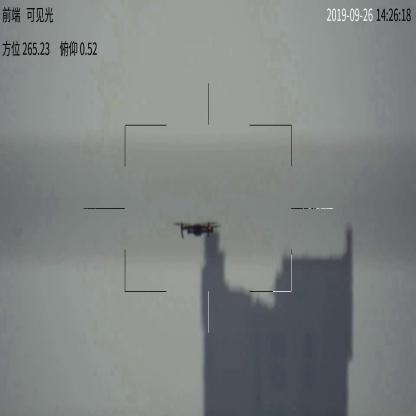uav: (174, 217, 219, 240)
